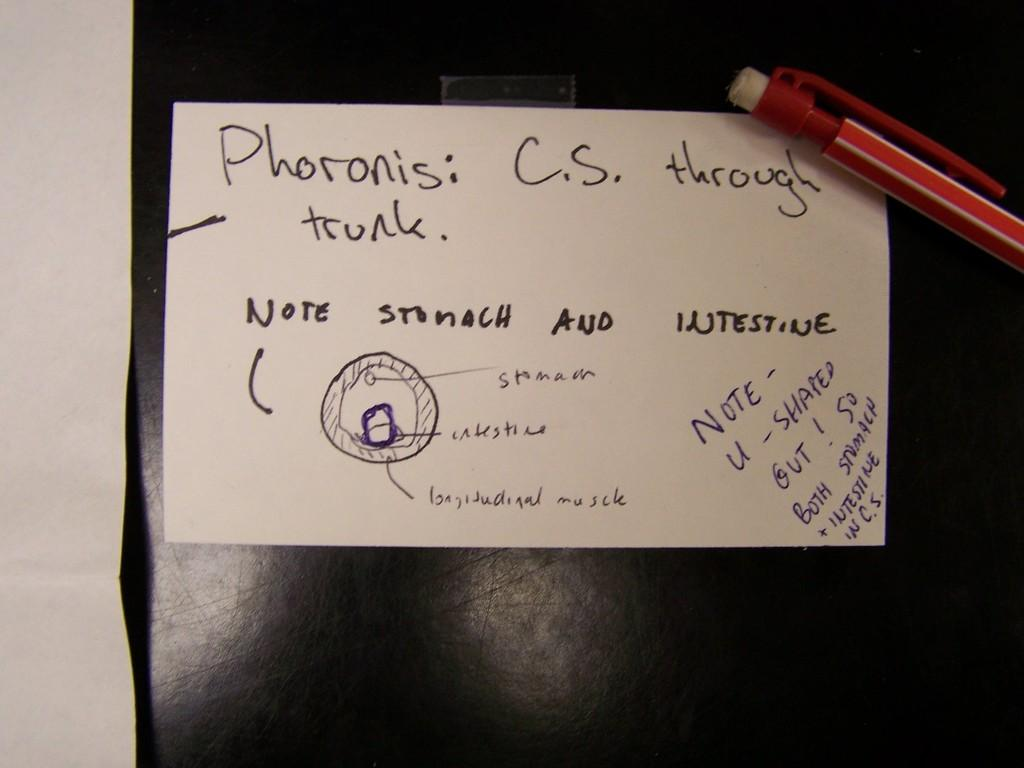pen: (719, 60, 1023, 274)
